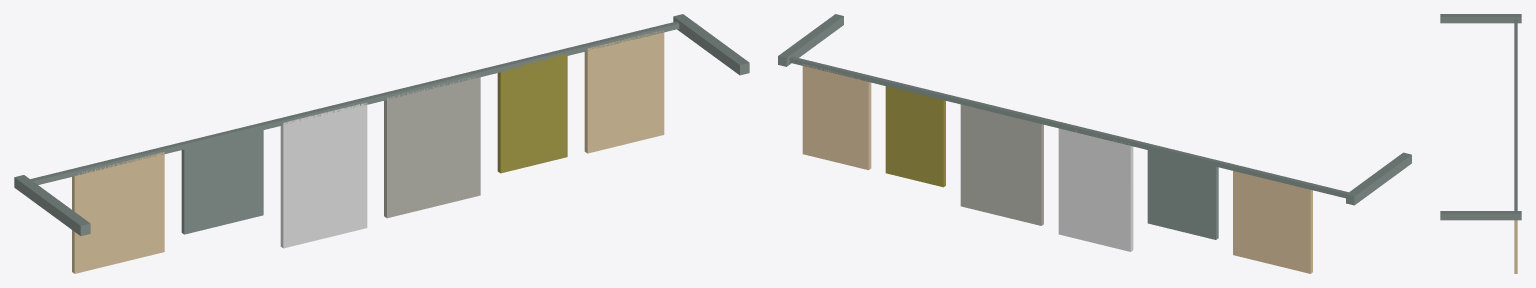
File: SM_Tendedero_v3_Balcon_LOD0.fbx
3 views of the same model, side by side, from view 1: azimuth 30°, elevation 25°; view 2: azimuth 150°, elevation 25°; view 3: azimuth 270°, elevation 25° (orthographic). The views are drawn at different scales.
Parts seen in each view (by area): view 1: SM_vida_fuerte_v8_LOD0; view 2: SM_vida_fuerte_v8_LOD0; view 3: SM_vida_fuerte_v8_LOD0.
Boxes of the visible parts, x1,y1,x2,y2 form: SM_vida_fuerte_v8_LOD0: (14,14,749,273); SM_vida_fuerte_v8_LOD0: (778,14,1411,273); SM_vida_fuerte_v8_LOD0: (1440,14,1521,273).
Size of the model in its own units: 4.06 by 0.7594 by 0.7.
